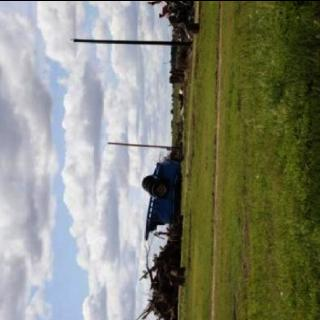Cumulus: (0, 0, 159, 318)
